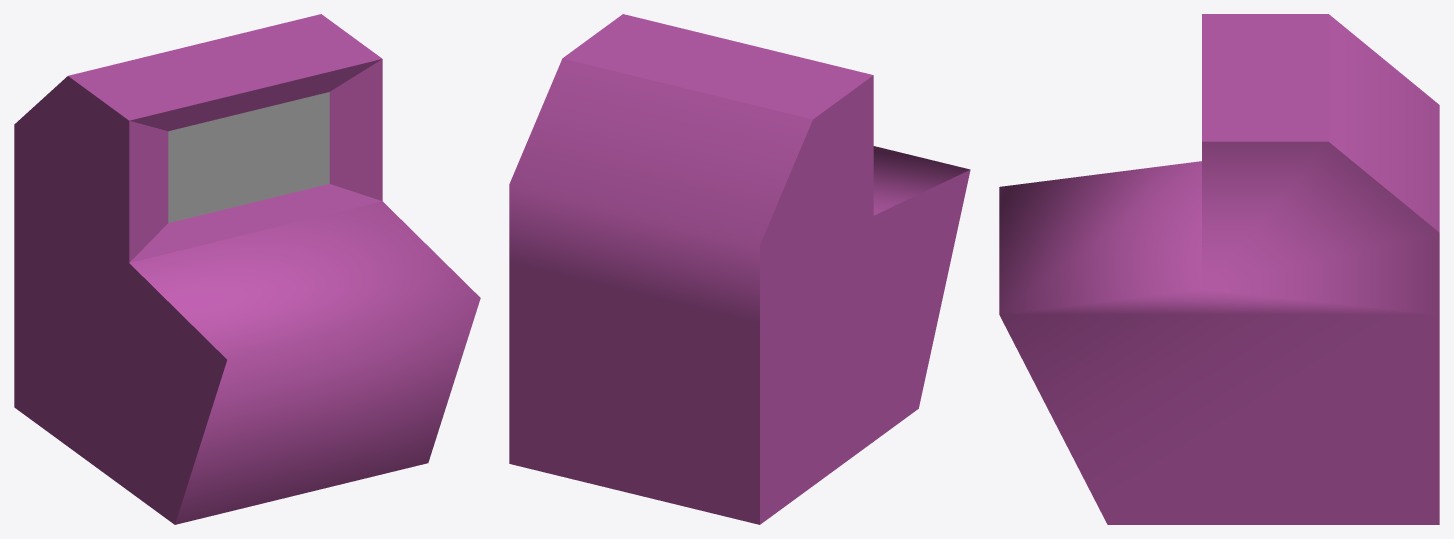
The model's file is Console1.fbx.
3 views of the same model, side by side, from view 1: azimuth 30°, elevation 25°; view 2: azimuth 150°, elevation 25°; view 3: azimuth 270°, elevation 25° (orthographic). The views are drawn at different scales.
Visible parts, largest first — view 1: Console1; view 2: Console1; view 3: Console1.
Boxes of the visible parts, x1,y1,x2,y2 form: Console1: (14, 14, 480, 524); Console1: (509, 14, 970, 524); Console1: (999, 14, 1439, 524).
Bounding box in the file's own units: 0.7944 × 1.11 × 1.16.
